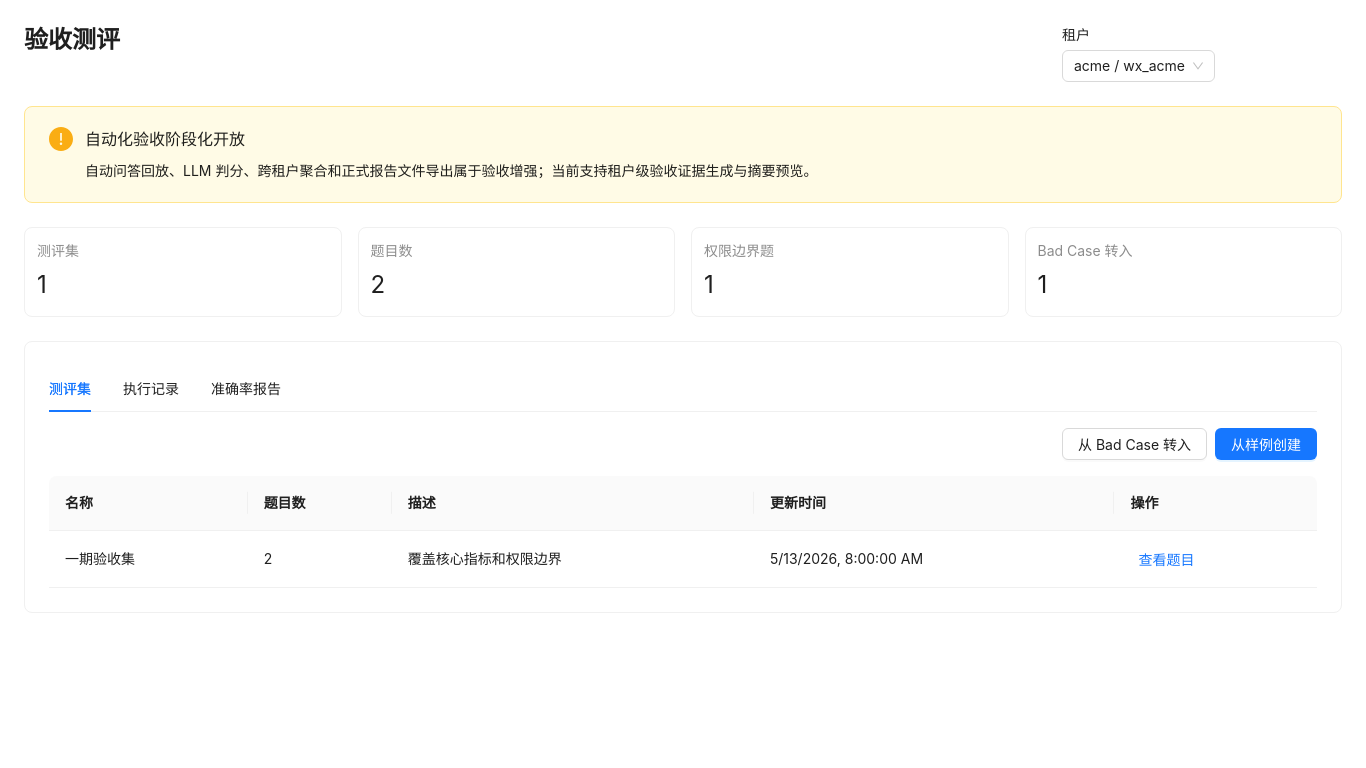
Scenario: EvaluationPage › does not reload old tenant after sample creation resolves during tenant switch
Check: the text "一期验收集" is shown, box [49,531,248,588]
Click the button "从样例创建" at [1266, 444], box [1215,428,1317,460]
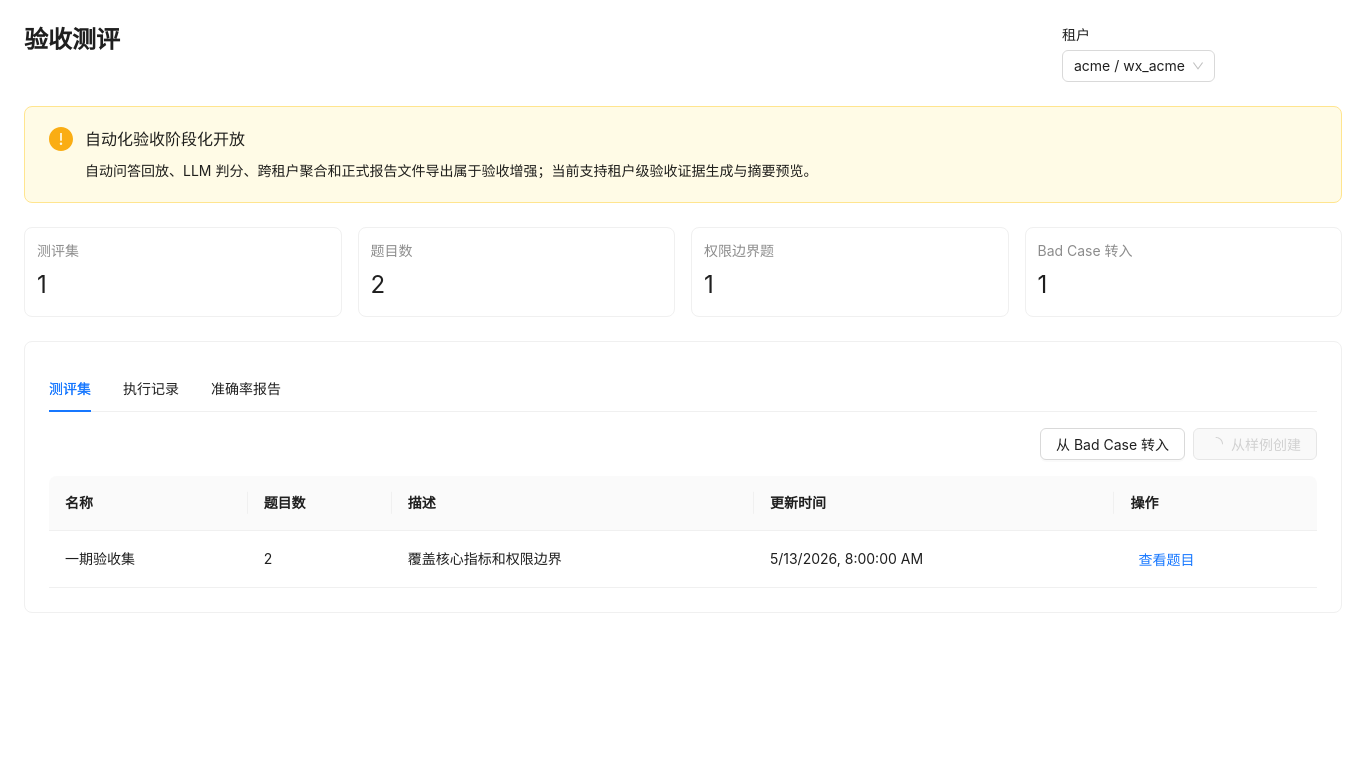
Click the dropdown named "租户选择器" at [1130, 66], box [1074,57,1185,74]
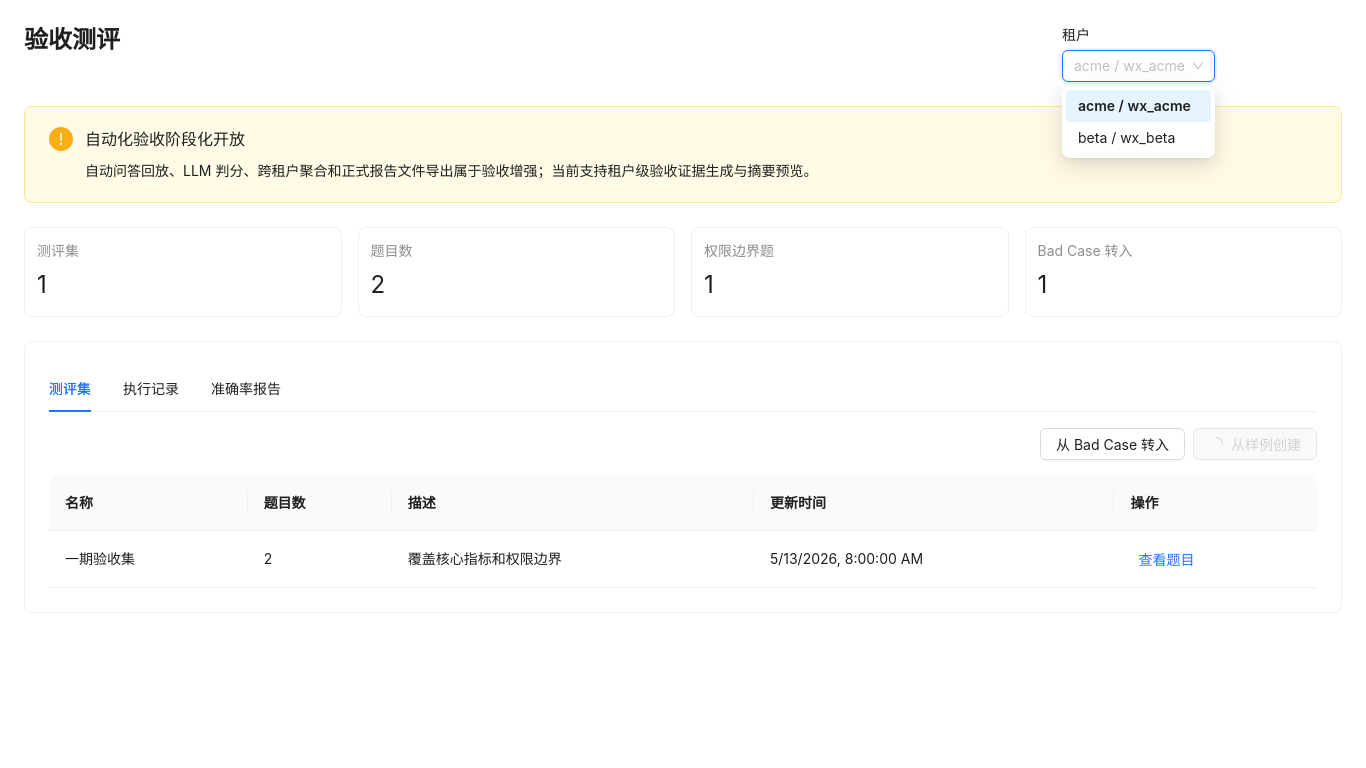
Click the text "beta / wx_beta" at [1127, 138], box [1078,129,1175,146]
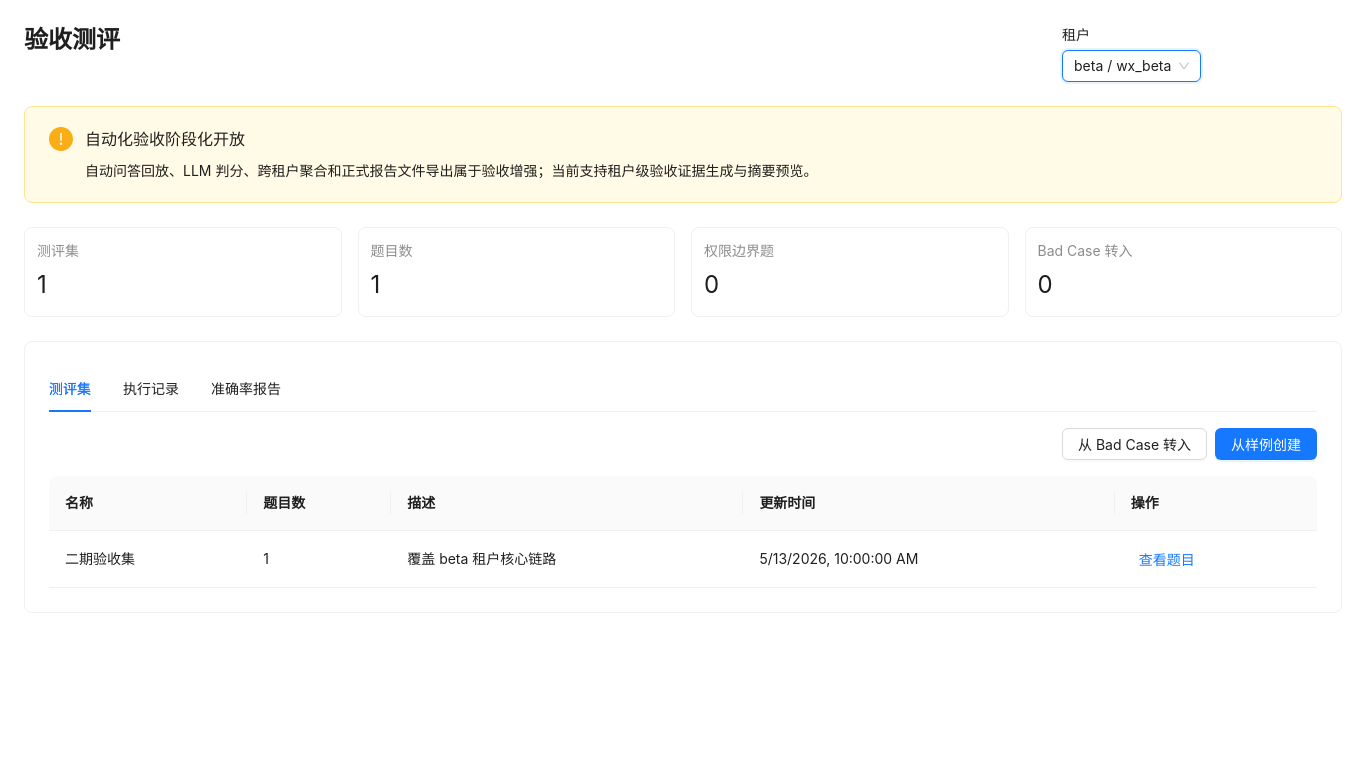
Check: the text "二期验收集" is shown, box [49,531,247,588]
Check: the text "一期验收集" is gone
